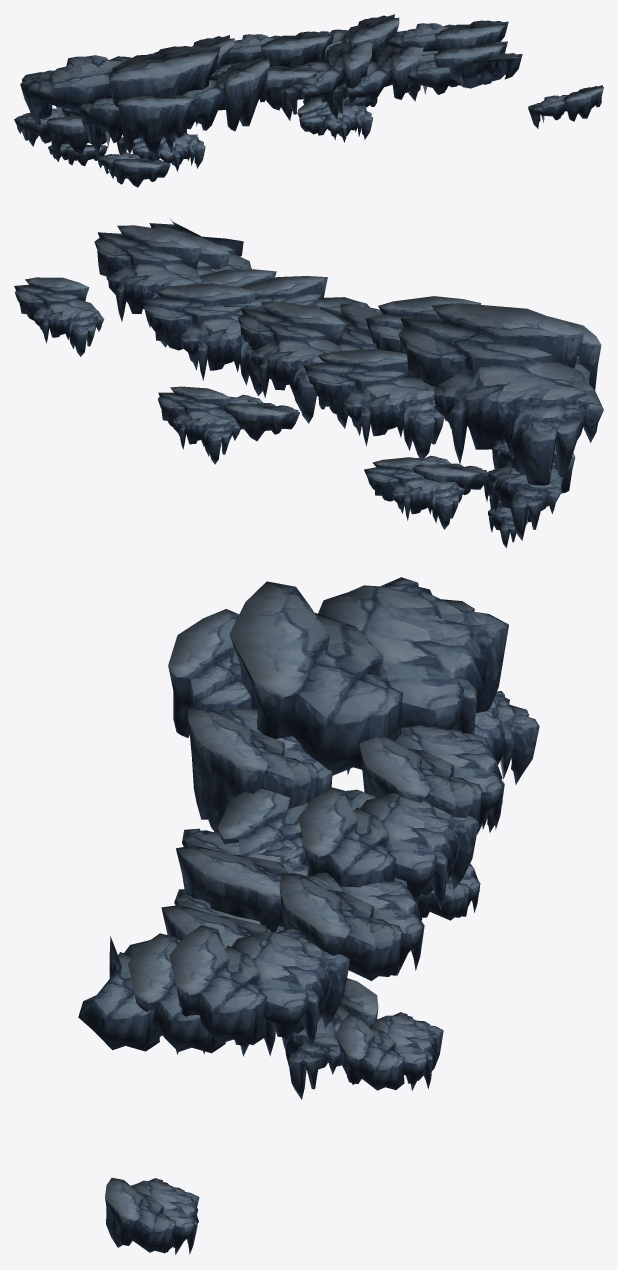
File: Area_13_1.fbx
The picture shows the model from 3 angles, top to bottom: view 1: azimuth 30°, elevation 25°; view 2: azimuth 150°, elevation 25°; view 3: azimuth 270°, elevation 25°; orthographic projection. The views are drawn at different scales.
Parts seen in each view (by area): view 1: Area_13_1; view 2: Area_13_1; view 3: Area_13_1.
Boxes of the visible parts, x1,y1,x2,y2 form: Area_13_1: (14, 14, 603, 187); Area_13_1: (14, 218, 603, 547); Area_13_1: (78, 577, 539, 1254).
Bounding box in the file's own units: 11783 × 2911 × 4590.
